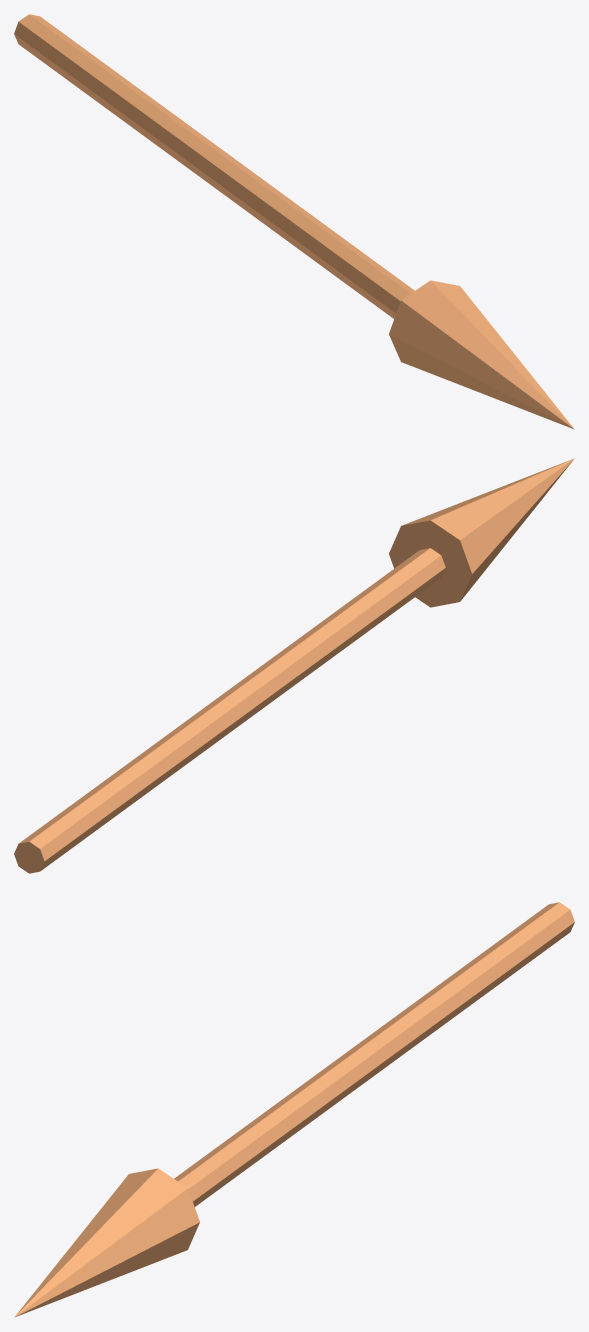
The model's file is SM_S05_AttackBeam.fbx.
3 views of the same model, one above another, from view 1: azimuth 30°, elevation 25°; view 2: azimuth 150°, elevation 25°; view 3: azimuth 330°, elevation 25° (orthographic).
Visible parts, largest first — view 1: SM_S05_AttackBeam; view 2: SM_S05_AttackBeam; view 3: SM_S05_AttackBeam.
Part boxes in pixels (<box>): SM_S05_AttackBeam: <box>14,14,574,429</box>; SM_S05_AttackBeam: <box>14,458,574,873</box>; SM_S05_AttackBeam: <box>14,902,574,1317</box>.
Bounding box in the file's own units: 6 × 68 × 6.
